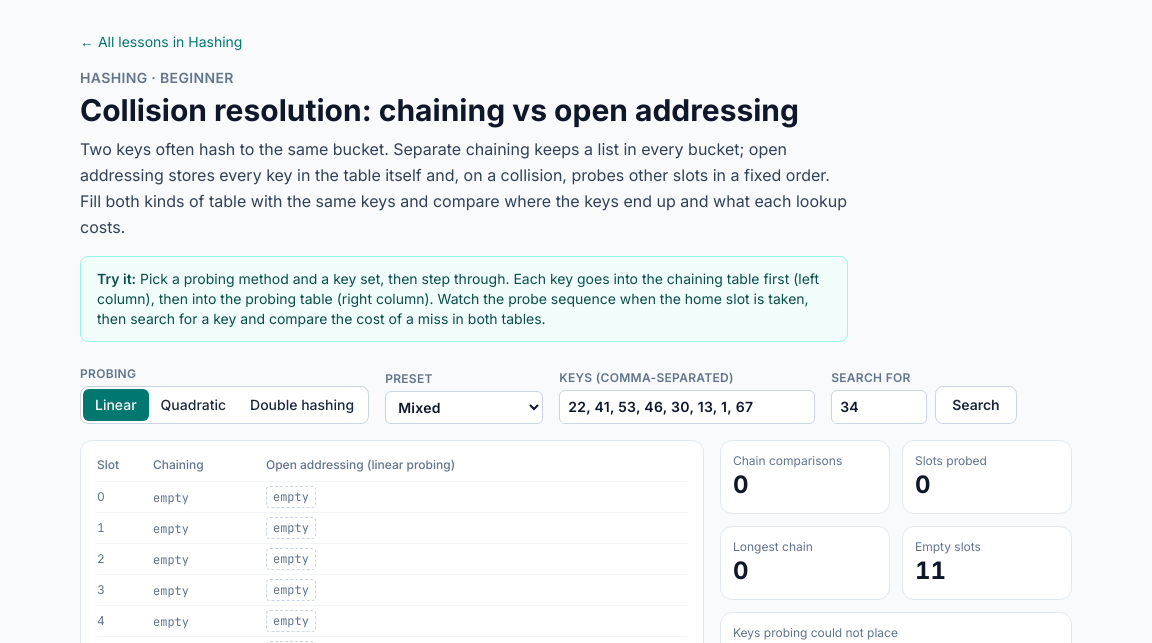
Scenario: collision resolution lesson › runs the search when Enter submits the search field and finds a key
Replace the text in the number field named "search" with "67": {"x": 879, "y": 407} [831, 390, 927, 424]
(page scrolled)
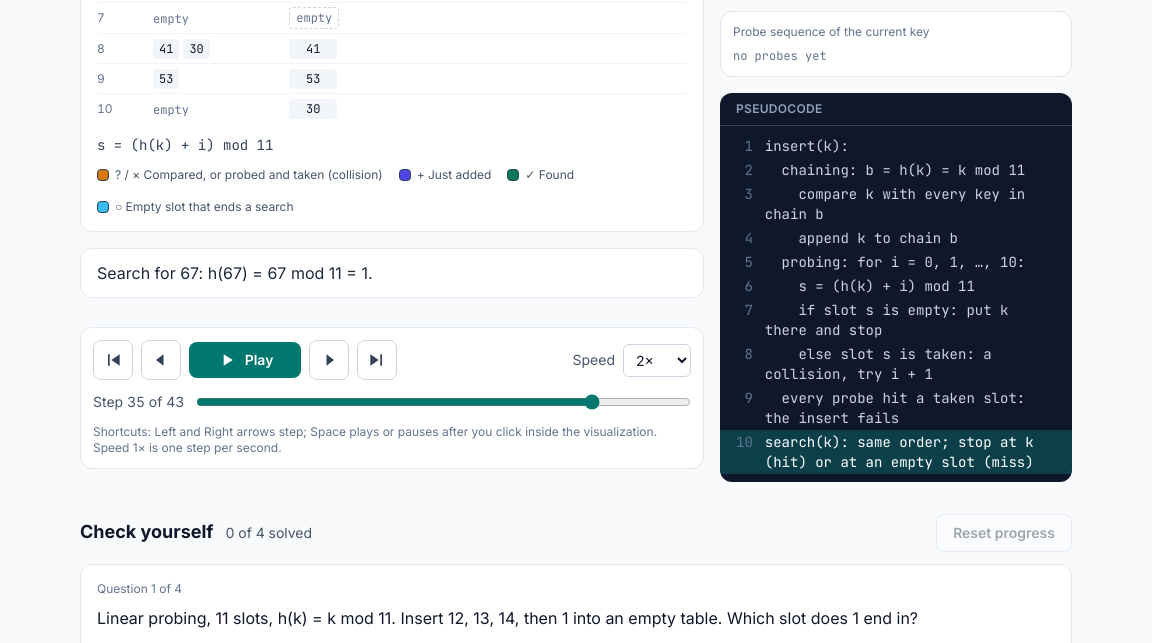
Check: the text "Search for 67: h(67) = 67 mod 11 = 1." is shown, box [80, 248, 704, 298]
Click the button named "Last step": {"x": 377, "y": 360} [357, 340, 397, 380]
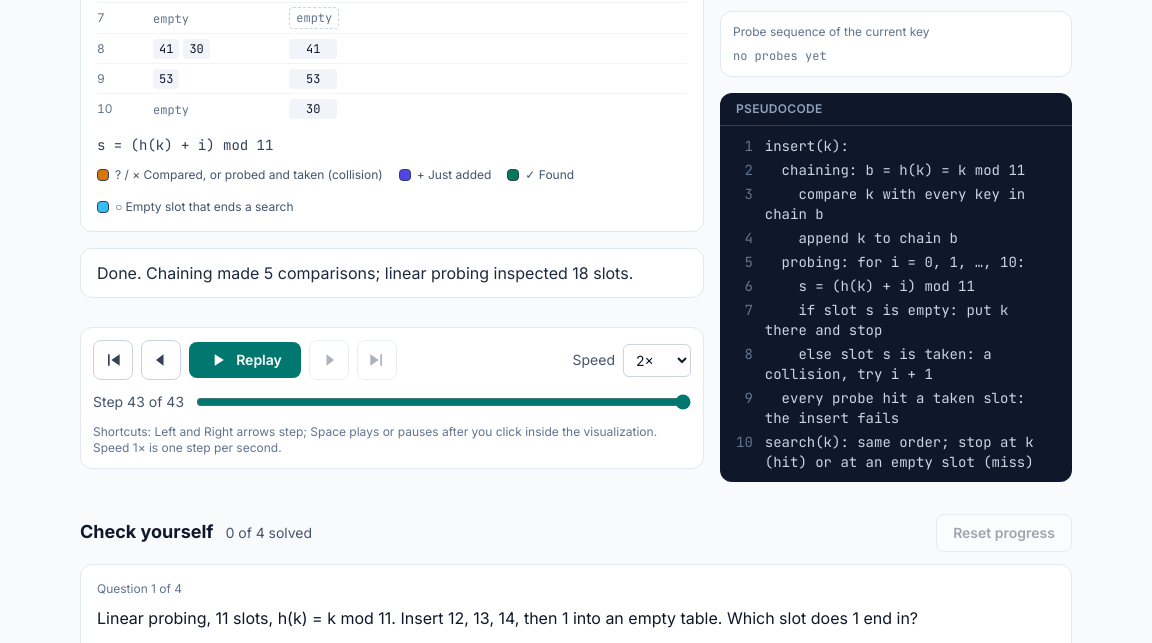
Click the button named "Previous step": {"x": 161, "y": 360} [141, 340, 181, 380]
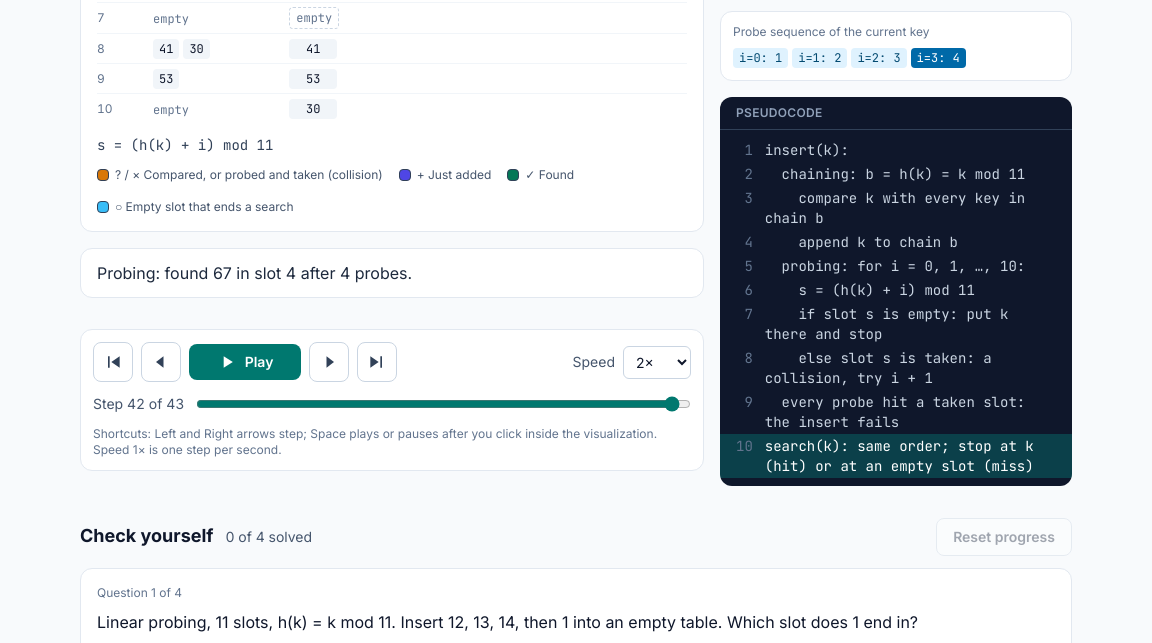
Check: the text "Probing: found 67 in slot 4 after 4 probes." is shown, box [80, 248, 704, 298]
